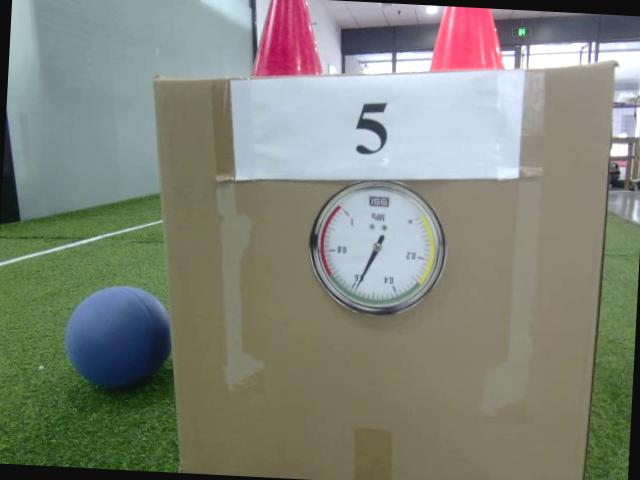5: (350, 98, 393, 158)
Dashboard: (302, 174, 452, 322)
blue_ball: (61, 286, 172, 396)
orange_barrel: (424, 6, 510, 80)
red_barrel: (250, 0, 331, 82)
ssi: (367, 194, 392, 209)
